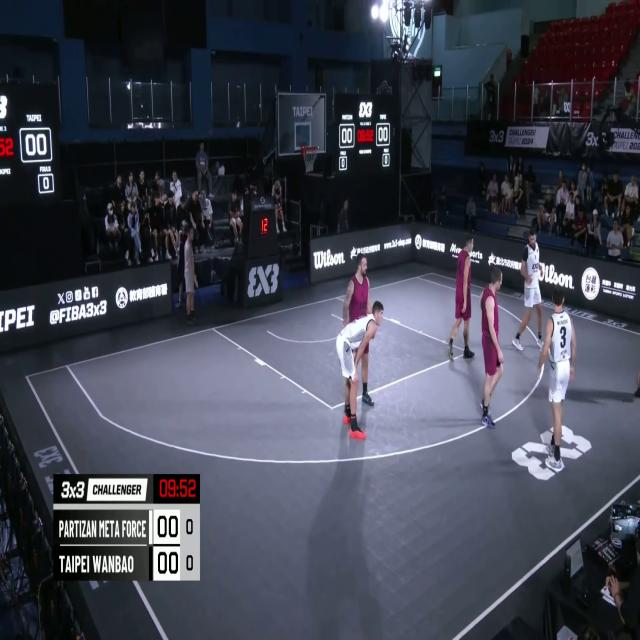hoop: (300, 142, 320, 175)
player: (536, 281, 578, 471), (336, 297, 386, 439), (340, 255, 370, 418), (480, 265, 504, 428), (513, 232, 543, 352), (447, 234, 475, 361)
